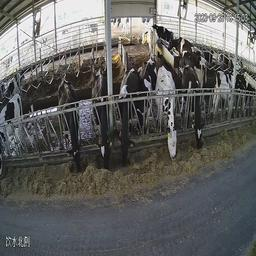cow: (56, 75, 82, 174), (181, 66, 207, 151), (91, 67, 112, 172), (156, 65, 179, 159), (0, 92, 25, 177), (116, 66, 139, 157), (213, 67, 245, 114), (138, 57, 157, 136), (179, 51, 207, 90), (232, 71, 254, 107), (140, 26, 159, 55), (169, 38, 195, 58), (153, 24, 172, 45)
